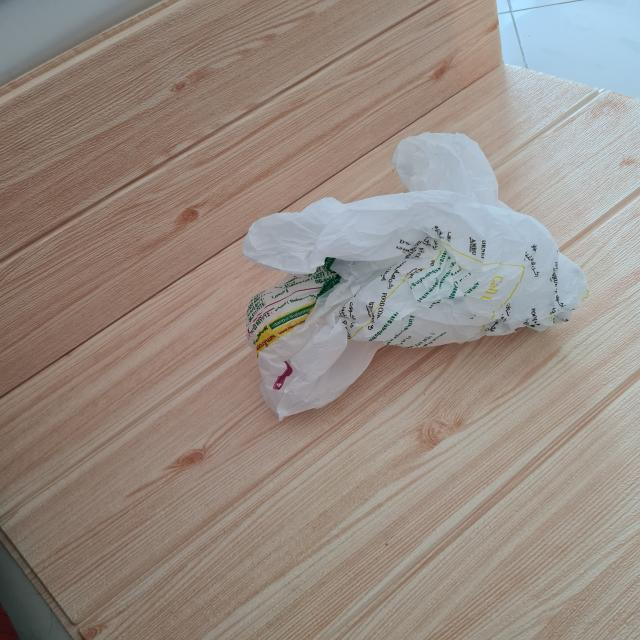Plastic_Bag: (197, 110, 618, 424)
